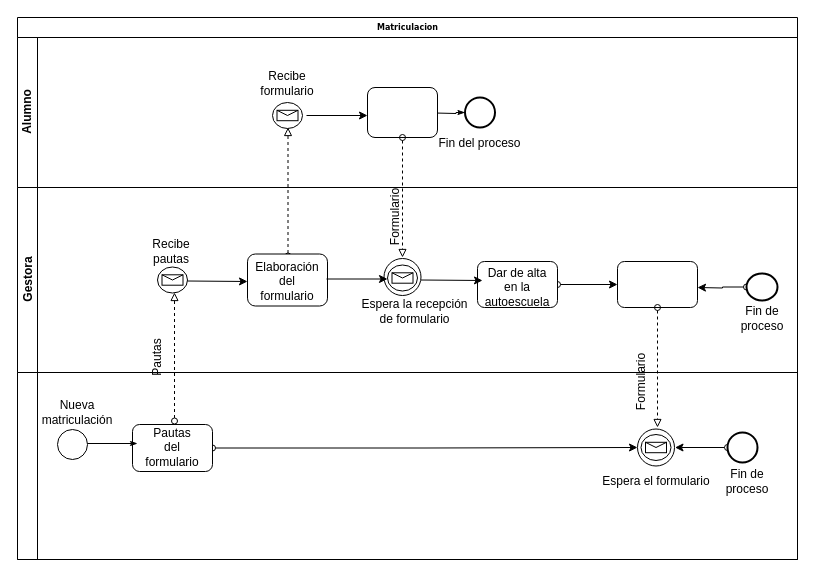
Image size: 815x577. Some labels were removed from this diagram. Here are the shapes that lost their labels. From the top down, the box of each, then its label:
(366, 86, 438, 138): Rellenar el formulario
(616, 260, 698, 308): Envío de formulario
(16, 372, 798, 560): DGT
